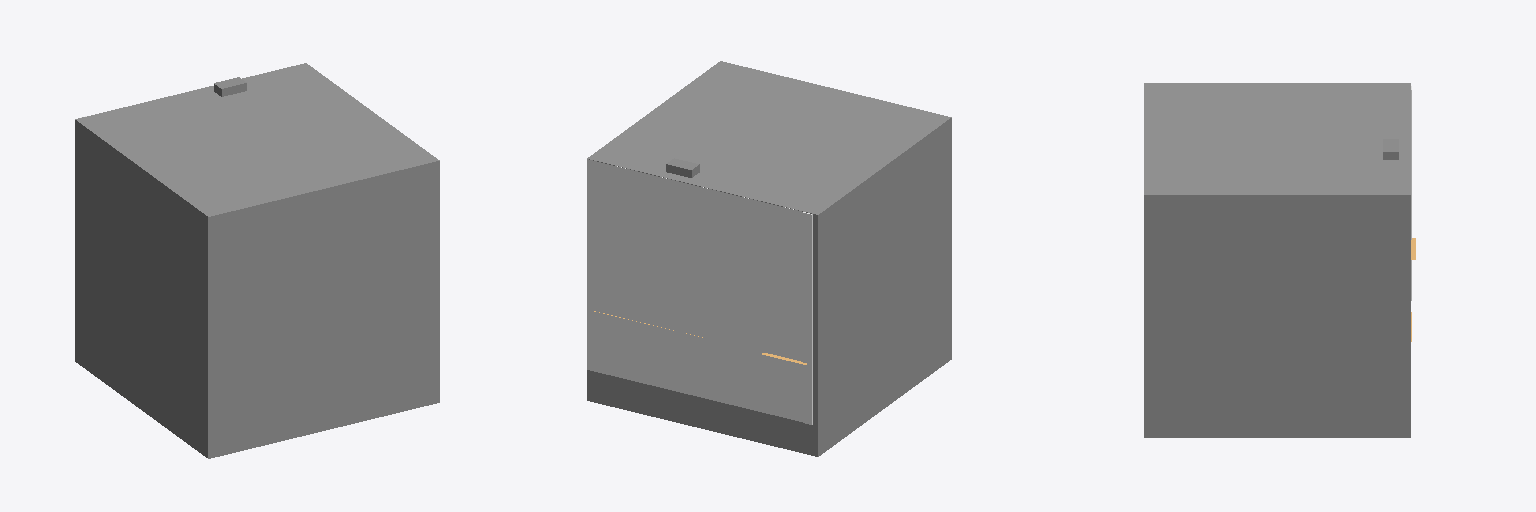
File: kitchen.obj
3 renders of one model, left to right at view 1: azimuth 30°, elevation 25°; view 2: azimuth 150°, elevation 25°; view 3: azimuth 270°, elevation 25°, orthographic.
Visible parts, largest first — view 1: mesh[number redacted]; view 2: mesh[number redacted]; view 3: mesh[number redacted].
Part boxes in pixels (x1,y1,x2,y2): mesh[number redacted]: (75,63,439,458); mesh[number redacted]: (587,61,951,456); mesh[number redacted]: (1144,83,1415,437).
Size of the model in its own units: 42.47 by 43.89 by 43.34.